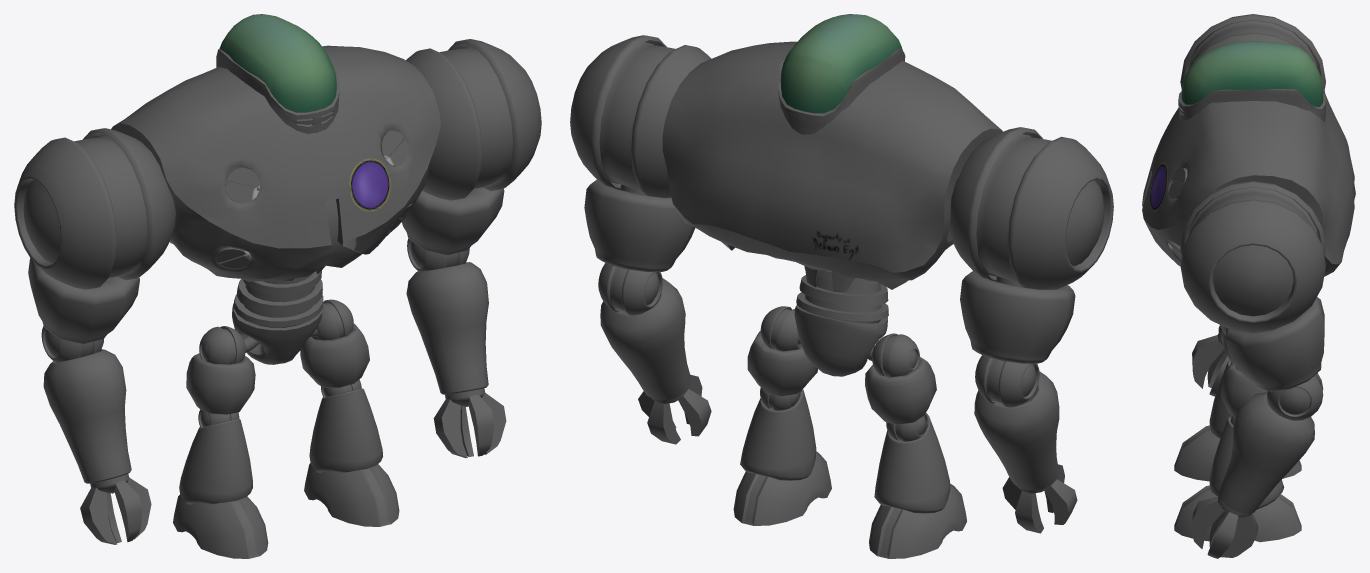
Rendered from RobotMark3FBX.fbx.
The picture shows the model from 3 angles, left to right: view 1: azimuth 30°, elevation 25°; view 2: azimuth 150°, elevation 25°; view 3: azimuth 270°, elevation 25°; orthographic projection. The views are drawn at different scales.
Visible parts, largest first — view 1: Torso, ShoulderLeft, ShoulderRight, Head, ForeRight, ForeLeft, BicepRight, ShinRight, ShinLeft, BicepLeft, FootRight, FootLeft (+10 smaller); view 2: Torso, ShoulderLeft, ShoulderRight, Head, BicepRight, BicepLeft, ForeLeft, ForeRight, ShinRight, ShinLeft, FootRight, FootLeft (+11 smaller); view 3: Torso, ShoulderRight, Head, ForeLeft, BicepLeft, ShoulderLeft, ClawLeft, FootLeft, FootRight, ElbowLeft, ClawRight, ShinLeft (+2 smaller).
Part boxes in pixels (x1,y1,x2,y2): Torso: (111, 45, 440, 281); ShoulderLeft: (14, 128, 176, 289); ShoulderRight: (406, 39, 541, 200); Head: (216, 14, 339, 133); ForeRight: (43, 349, 131, 483); ForeLeft: (406, 262, 488, 394); BicepRight: (28, 258, 139, 344); ShinRight: (179, 418, 252, 504); ShinLeft: (309, 388, 382, 472); BicepLeft: (402, 187, 504, 255); FootRight: (173, 494, 268, 558); FootLeft: (304, 463, 399, 526); Torso: (662, 41, 1002, 291); ShoulderLeft: (949, 127, 1113, 289); ShoulderRight: (570, 35, 711, 197); Head: (778, 14, 905, 134); BicepRight: (960, 271, 1075, 363); BicepLeft: (584, 180, 695, 271); ForeLeft: (600, 278, 690, 400); ForeRight: (974, 371, 1059, 490); ShinRight: (874, 413, 950, 513); ShinLeft: (740, 389, 816, 480); FootRight: (869, 483, 966, 558); FootLeft: (733, 451, 831, 525); Torso: (1142, 88, 1355, 276); ShoulderRight: (1180, 181, 1325, 333); Head: (1178, 41, 1326, 121); ForeLeft: (1218, 392, 1314, 513); BicepLeft: (1225, 297, 1324, 391); ShoulderLeft: (1180, 14, 1325, 93); ClawLeft: (1192, 495, 1258, 558); FootLeft: (1174, 485, 1301, 542); FootRight: (1174, 425, 1301, 481); ElbowLeft: (1267, 373, 1323, 420); ClawRight: (1192, 333, 1229, 396); ShinLeft: (1209, 416, 1284, 509).
Bounding box in the file's own units: 4.47 × 4.21 × 1.8.
Materials: 2 (2 with a texture image).
